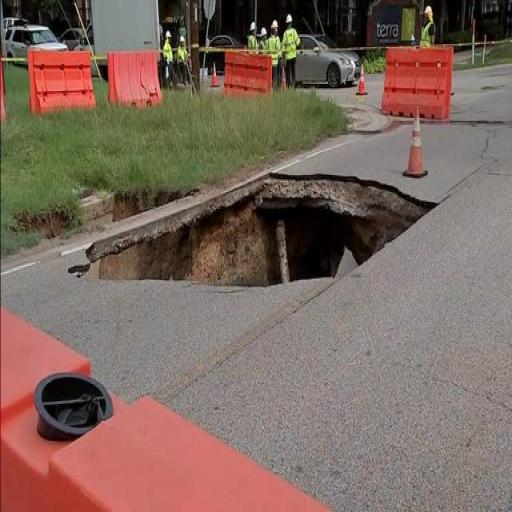Concentric_Crack: (70, 172, 434, 285)
